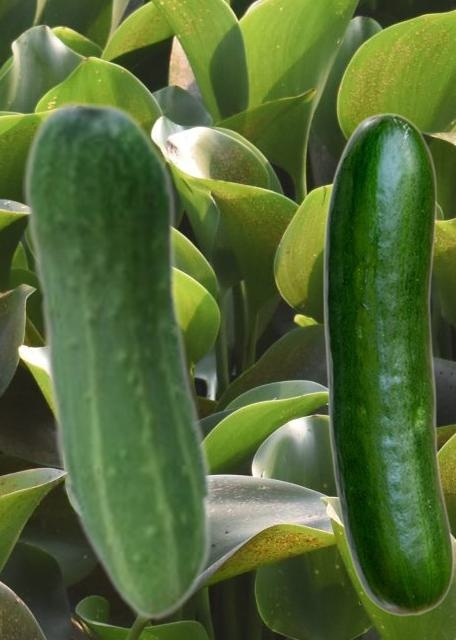cucumber: (22, 98, 214, 620), (322, 112, 453, 615)
